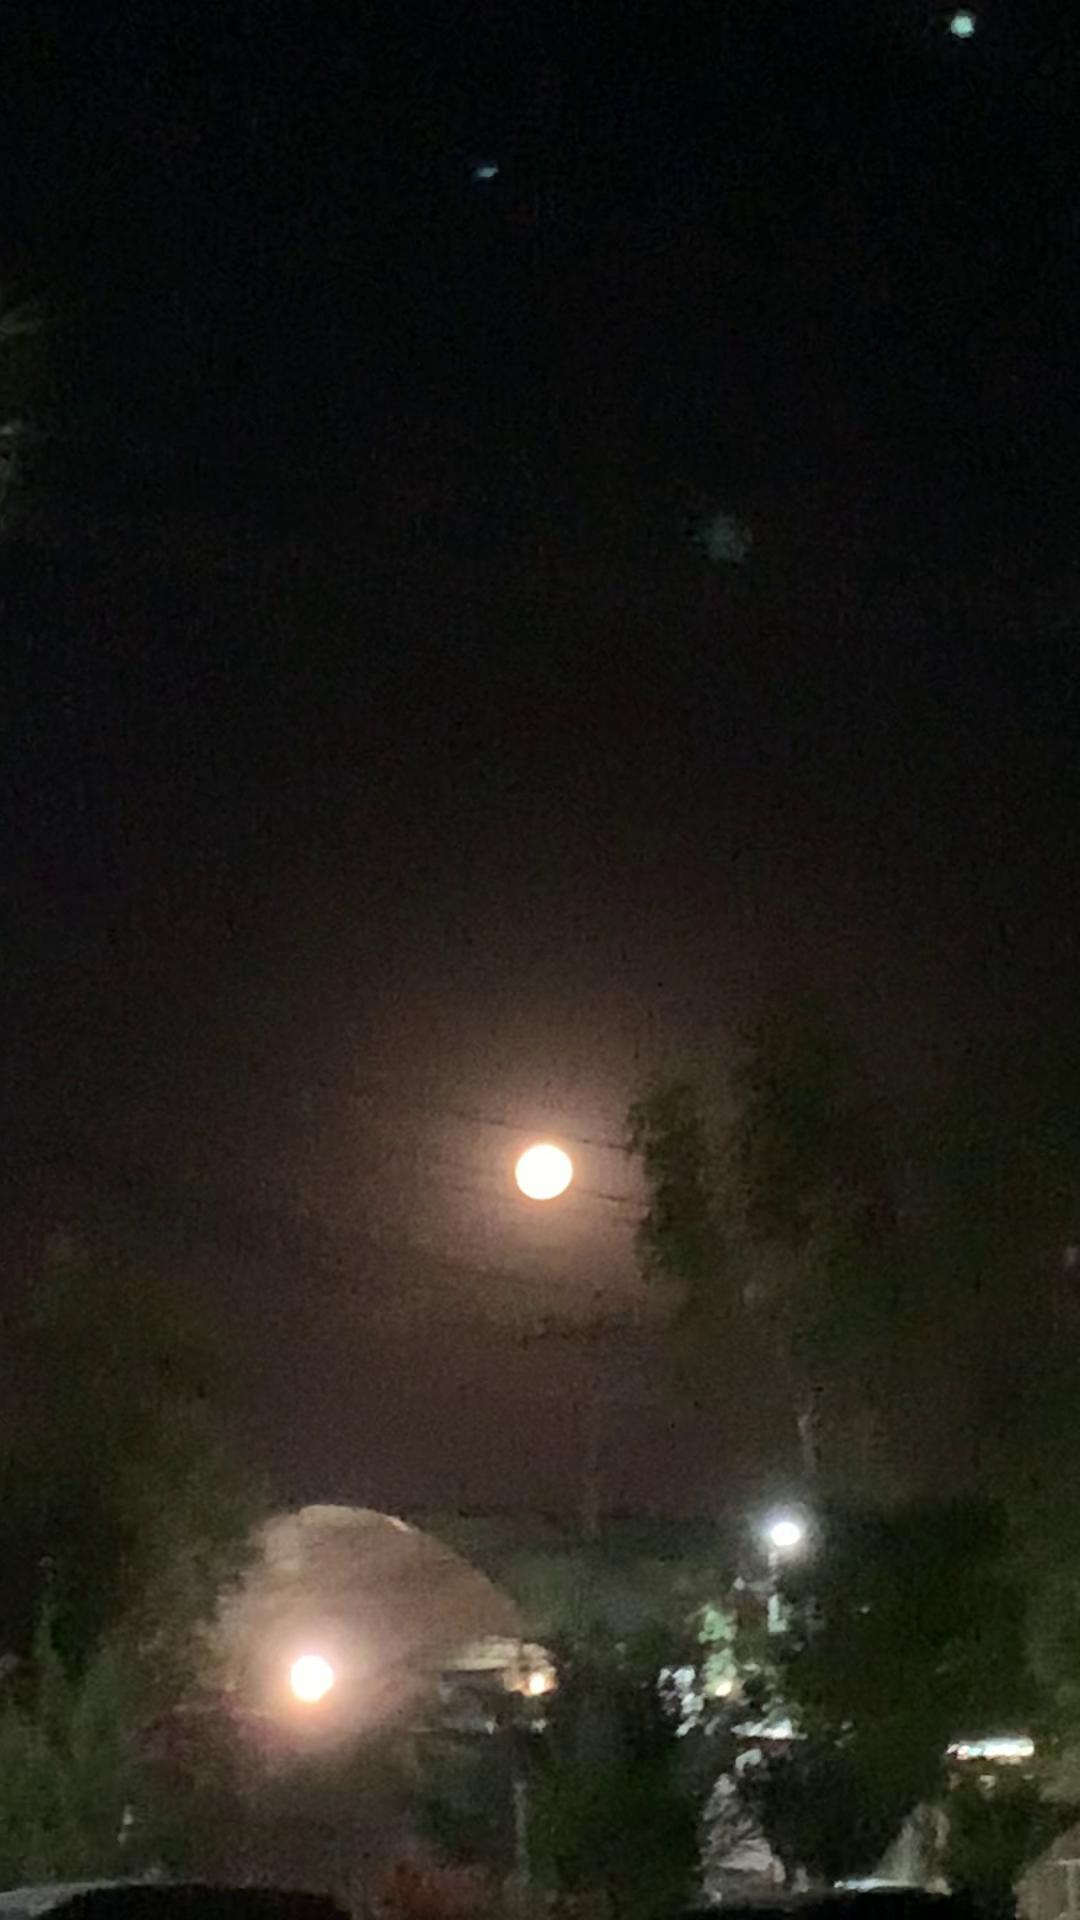moon: (500, 1147, 571, 1220)
